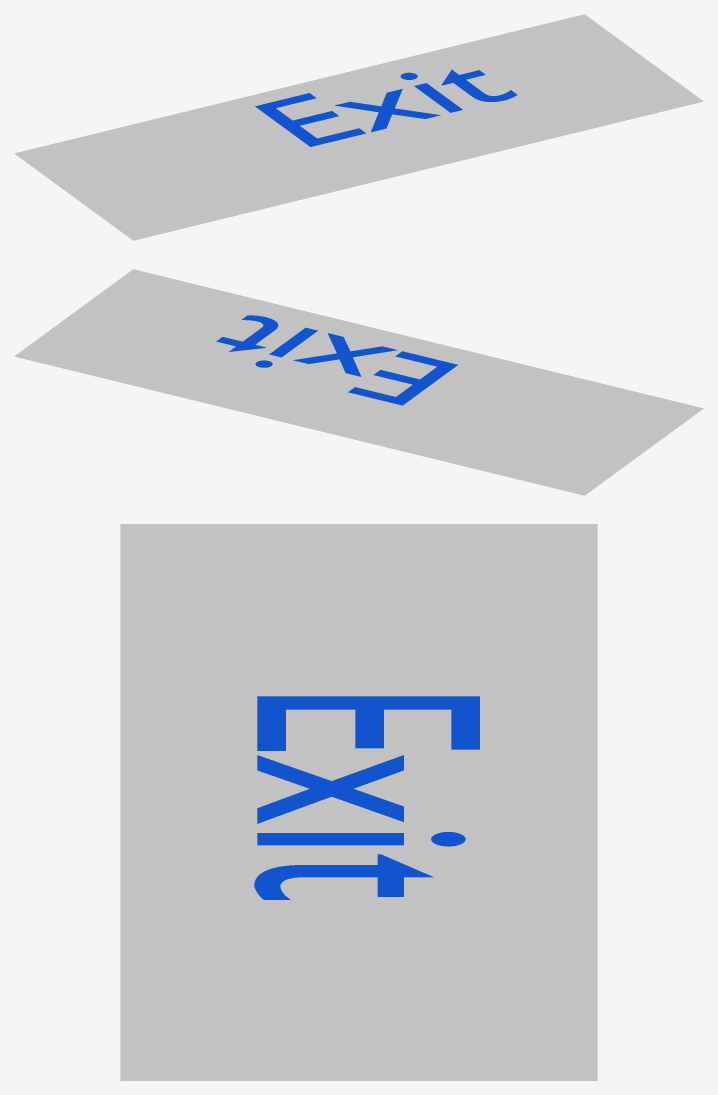
The model's file is LevelTransition.glb.
3 renders of one model, top to bottom at view 1: azimuth 30°, elevation 25°; view 2: azimuth 150°, elevation 25°; view 3: azimuth 270°, elevation 25°, orthographic. The views are drawn at different scales.
Visible parts, largest first — view 1: Plane.004, Text; view 2: Plane.004, Text; view 3: Plane.004, Text.
Boxes of the visible parts, x1,y1,x2,y2 form: Plane.004: (14,14,703,240); Text: (255,69,517,146); Plane.004: (14,269,703,495); Text: (216,315,457,405); Plane.004: (120,524,597,1080); Text: (254,696,479,899).
Size of what is drawn, in the model's own units: 12.26 by 0.3499 by 4.44.
